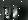person: (5, 8, 11, 20), (14, 7, 19, 19)
